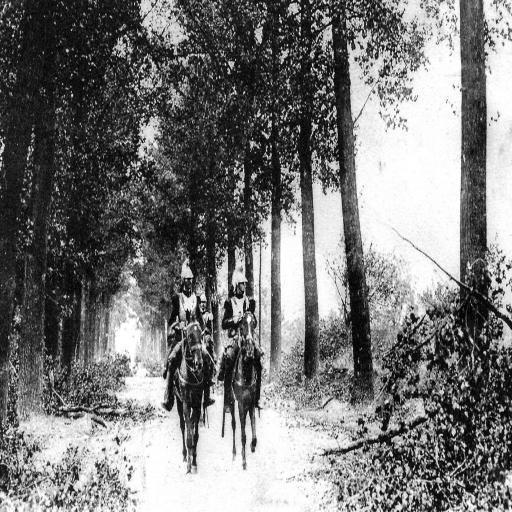Horse: (228, 300, 260, 471), (174, 307, 204, 474)
